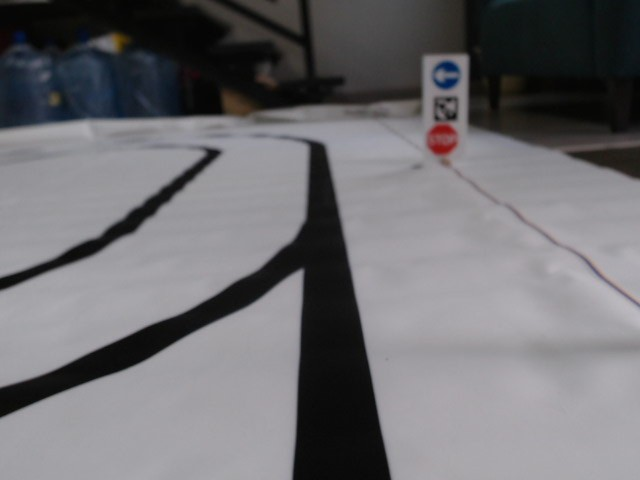Stop: (426, 123, 457, 154)
